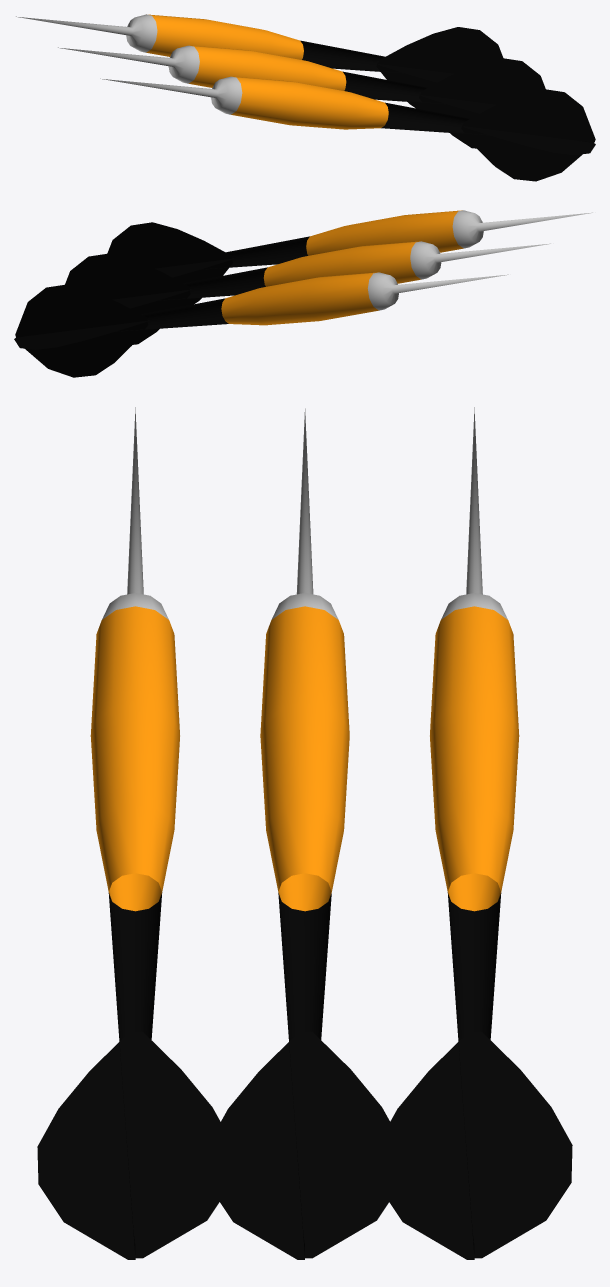
The model's file is Dardos_Mano.obj.
The picture shows the model from 3 angles, top to bottom: view 1: azimuth 30°, elevation 25°; view 2: azimuth 150°, elevation 25°; view 3: azimuth 270°, elevation 25°; orthographic projection. The views are drawn at different scales.
Visible parts, largest first — view 1: Dardo; view 2: Dardo; view 3: Dardo.
Part boxes in pixels (bbox=[...]): Dardo: bbox=[16, 14, 595, 181]; Dardo: bbox=[14, 210, 592, 377]; Dardo: bbox=[37, 407, 572, 1259].
Bounding box in the file's own units: 0.1152 × 0.0465 × 0.0538.
Materials: 3 (3 with a texture image).
